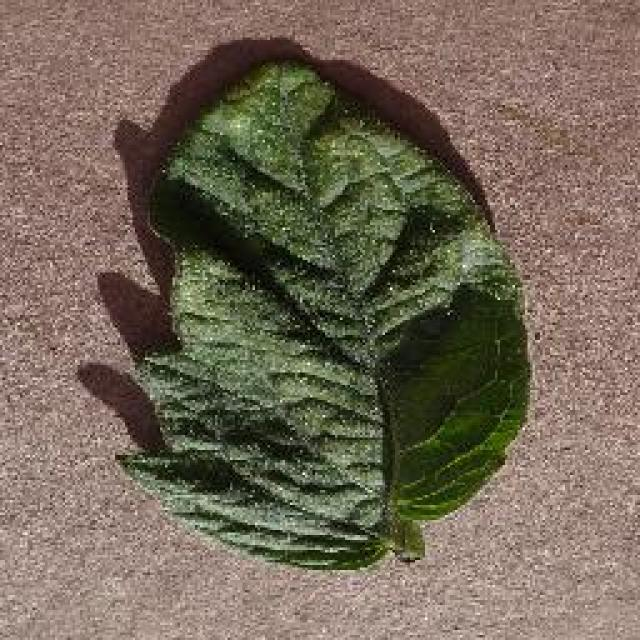Tomato___Spider_mites Two-spotted_spider_mite: (115, 60, 525, 568)
